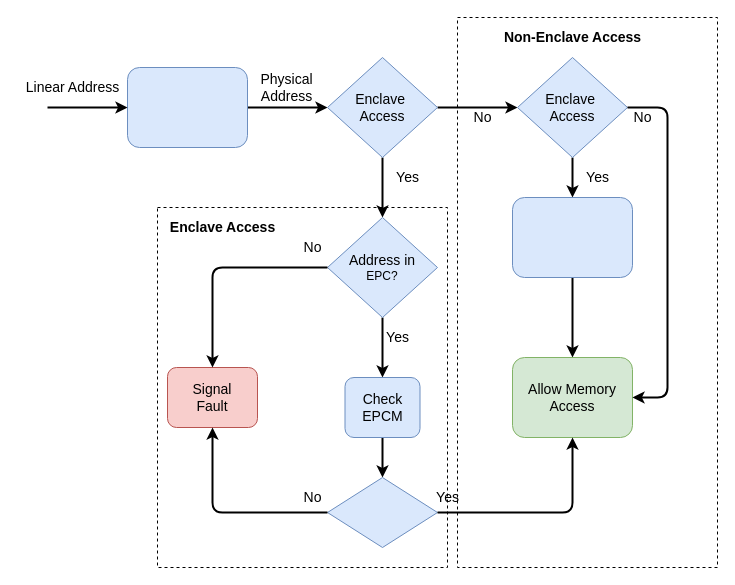
The diagram is 735 pixels wide and 585 high, and some of its shapes have lost their labels. The shapes that lost their labels are listed below. From the top down, each one's box as (x1, y1, x2, y2) in pixels, then its label:
(126, 66, 248, 148): Traditional Page Table Checks
(512, 196, 632, 278): Replace Address with abort page
(326, 476, 438, 548): Check Pass?
